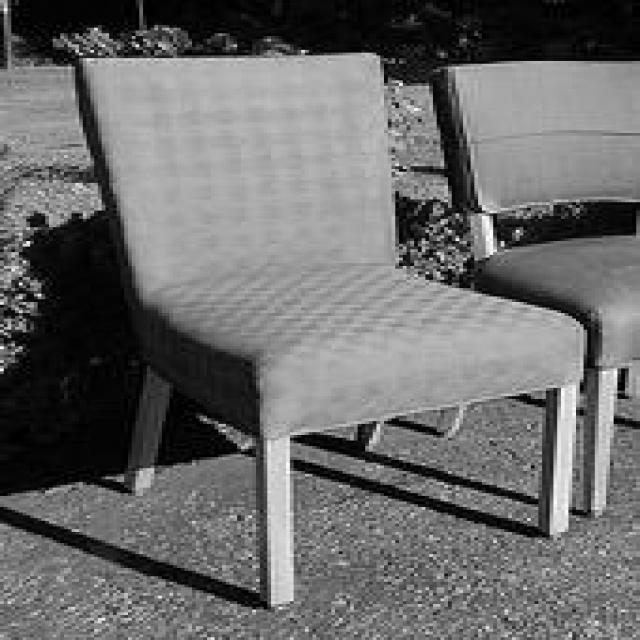chair: (66, 49, 591, 608), (440, 59, 640, 522)
